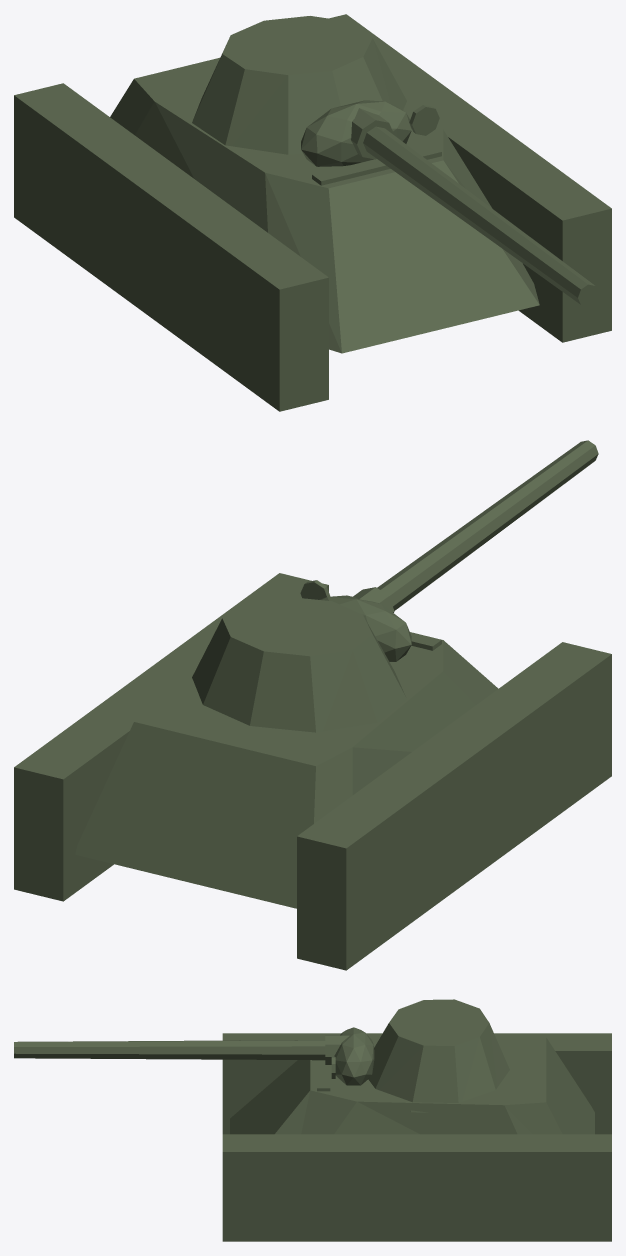
Rendered from light_tank_lod1.obj.
The picture shows the model from 3 angles, top to bottom: view 1: azimuth 30°, elevation 25°; view 2: azimuth 150°, elevation 25°; view 3: azimuth 270°, elevation 25°; orthographic projection. The views are drawn at different scales.
Parts seen in each view (by area): view 1: light_tank_lod1; view 2: light_tank_lod1; view 3: light_tank_lod1.
Part boxes in pixels (x1,y1,x2,y2): light_tank_lod1: (14,14,611,411); light_tank_lod1: (14,440,611,970); light_tank_lod1: (14,999,611,1241).
Size of the model in its own units: 2.69 by 1.68 by 5.72.
